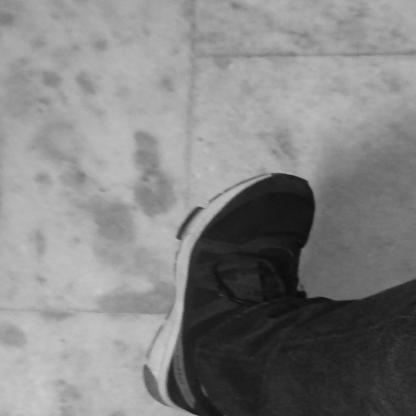ankle: (191, 347, 201, 353)
heel: (162, 398, 170, 403)
left_foot: (144, 174, 322, 415)
pinky: (249, 190, 258, 194)
toe: (307, 201, 314, 205)
